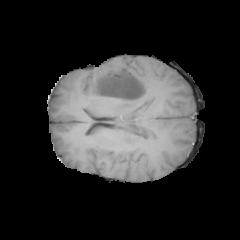glioma: (87, 68, 149, 165)
